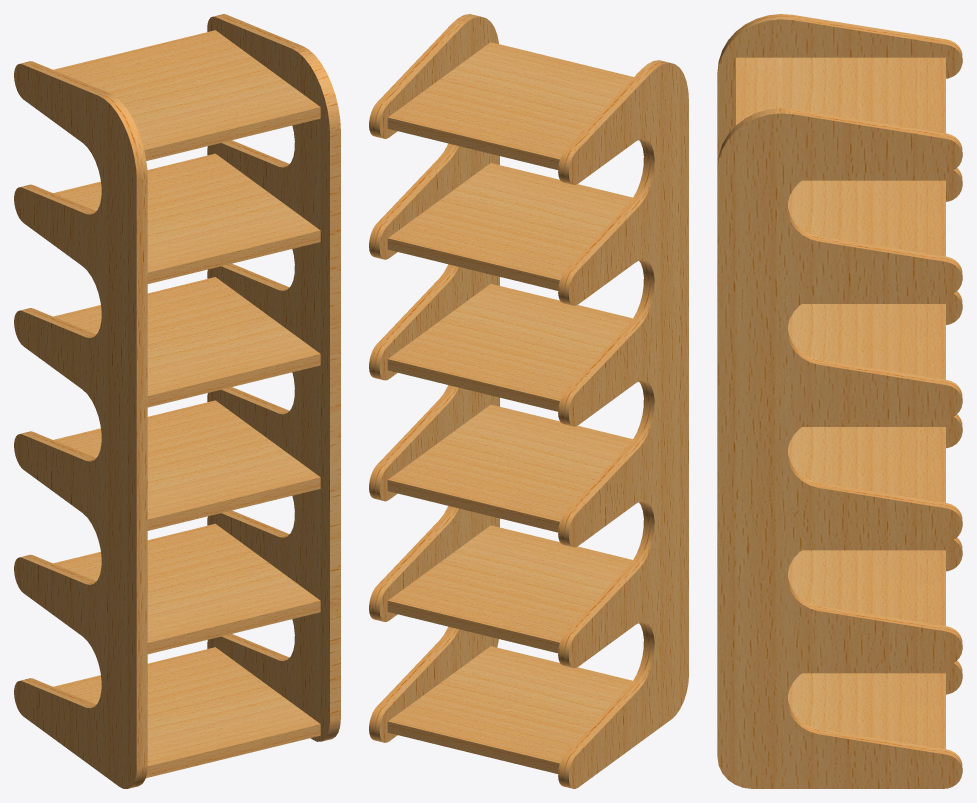
The model's file is zapatera.glb.
3 views of the same model, side by side, from view 1: azimuth 30°, elevation 25°; view 2: azimuth 150°, elevation 25°; view 3: azimuth 270°, elevation 25° (orthographic). The views are drawn at different scales.
Parts seen in each view (by area): view 1: shoe shelf sides-1, shoe shelf left side-1, shoe shelf tops-1, shoe shelf tops-5, shoe shelf tops-6, shoe shelf tops-3, shoe shelf tops-4, shoe shelf tops-2; view 2: shoe shelf sides-1, shoe shelf left side-1, shoe shelf tops-1, shoe shelf tops-5, shoe shelf tops-2, shoe shelf tops-4, shoe shelf tops-3, shoe shelf tops-6; view 3: shoe shelf left side-1, shoe shelf sides-1, shoe shelf tops-1, shoe shelf tops-2, shoe shelf tops-6, shoe shelf tops-3, shoe shelf tops-4, shoe shelf tops-5.
Boxes of the visible parts, left/top/right/bottom form: shoe shelf sides-1: left=14, top=61, right=147, bottom=788; shoe shelf left side-1: left=207, top=14, right=340, bottom=741; shoe shelf tops-1: left=53, top=30, right=320, bottom=160; shoe shelf tops-5: left=53, top=277, right=320, bottom=407; shoe shelf tops-6: left=53, top=647, right=320, bottom=777; shoe shelf tops-3: left=53, top=523, right=320, bottom=654; shoe shelf tops-4: left=53, top=400, right=320, bottom=530; shoe shelf tops-2: left=53, top=153, right=320, bottom=283; shoe shelf sides-1: left=558, top=60, right=688, bottom=788; shoe shelf left side-1: left=369, top=14, right=499, bottom=742; shoe shelf tops-1: left=387, top=42, right=633, bottom=169; shoe shelf tops-5: left=387, top=284, right=632, bottom=411; shoe shelf tops-2: left=387, top=163, right=632, bottom=290; shoe shelf tops-4: left=387, top=404, right=632, bottom=532; shoe shelf tops-3: left=387, top=525, right=632, bottom=653; shoe shelf tops-6: left=387, top=646, right=632, bottom=773; shoe shelf left side-1: left=717, top=108, right=962, bottom=788; shoe shelf sides-1: left=717, top=14, right=962, bottom=694; shoe shelf tops-1: left=736, top=57, right=945, bottom=133; shoe shelf tops-2: left=788, top=180, right=945, bottom=256; shoe shelf tops-6: left=788, top=673, right=945, bottom=749; shoe shelf tops-3: left=788, top=550, right=945, bottom=625; shoe shelf tops-4: left=788, top=427, right=945, bottom=502; shoe shelf tops-5: left=788, top=304, right=945, bottom=379.
Size of the model in its own units: 0.336 by 1.06 by 0.3499.
3 materials, 3 textured.
